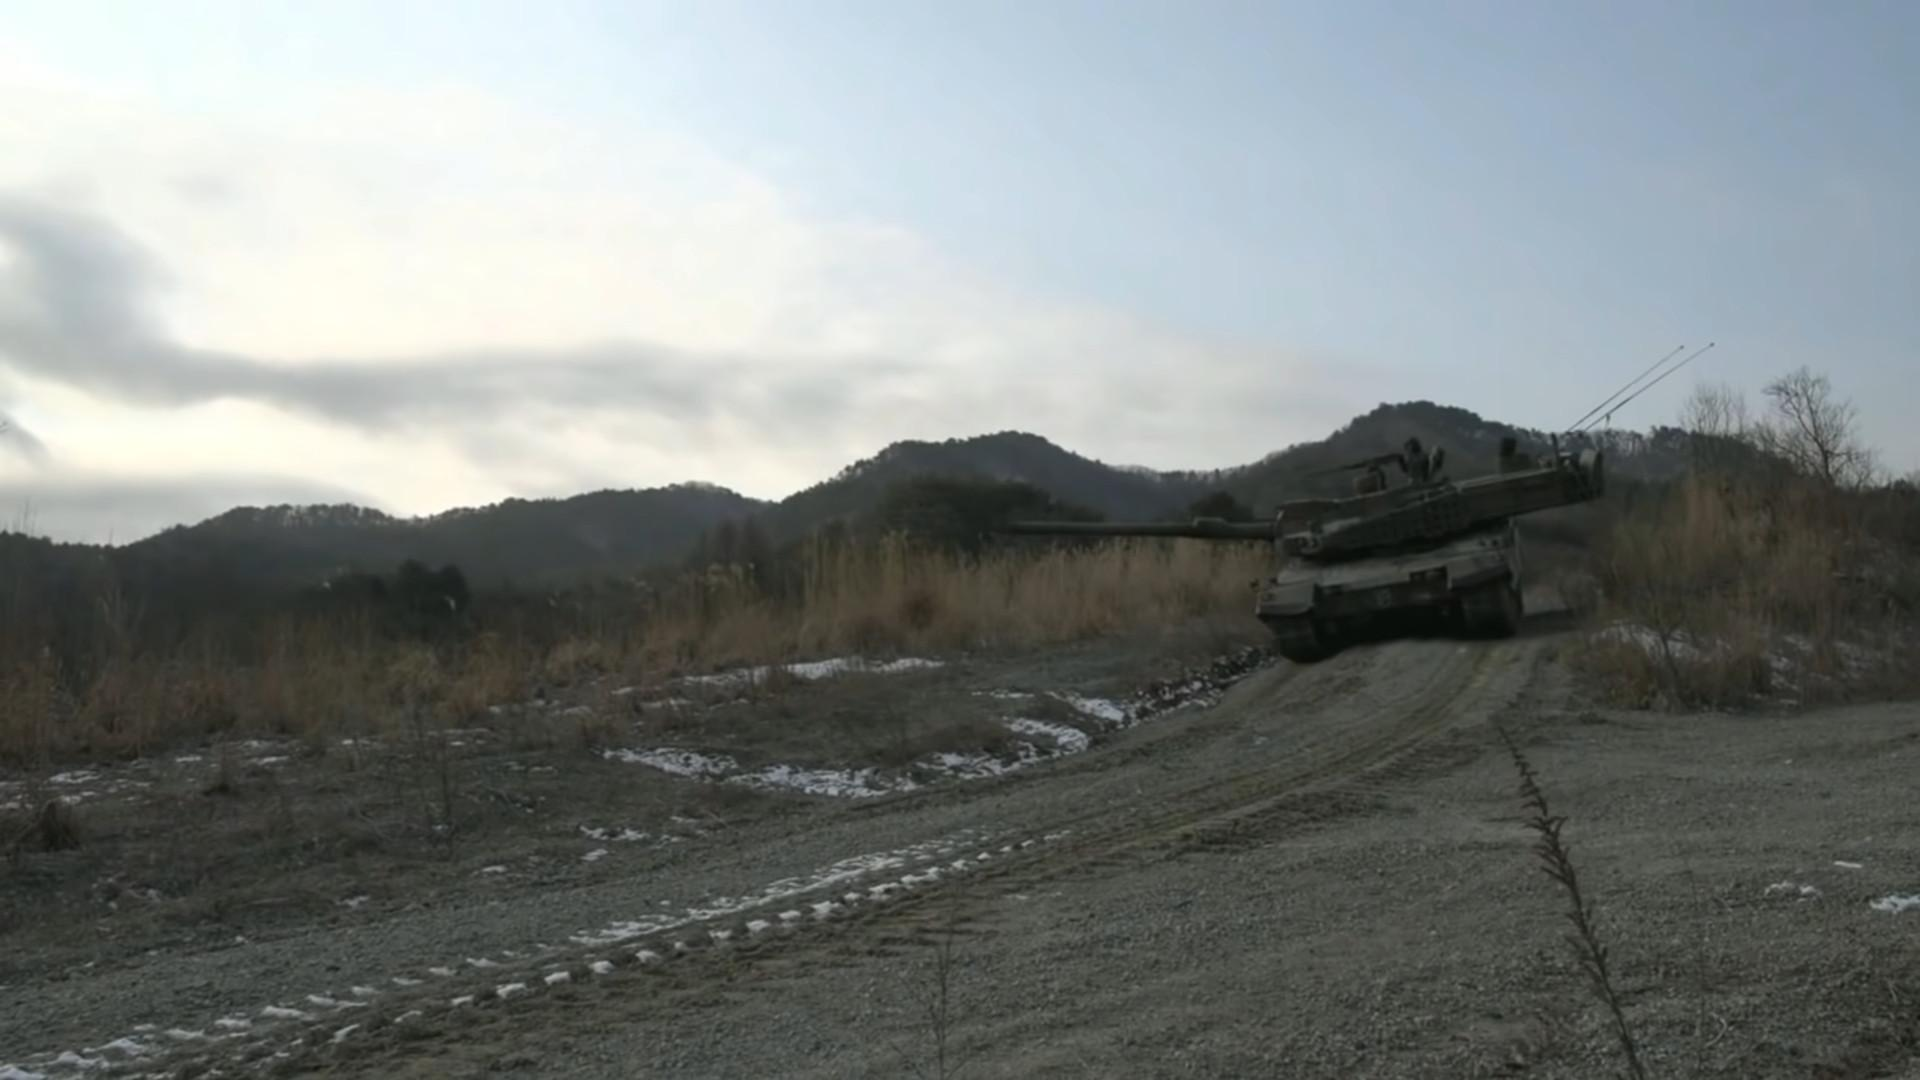tank: (996, 439, 1607, 662)
